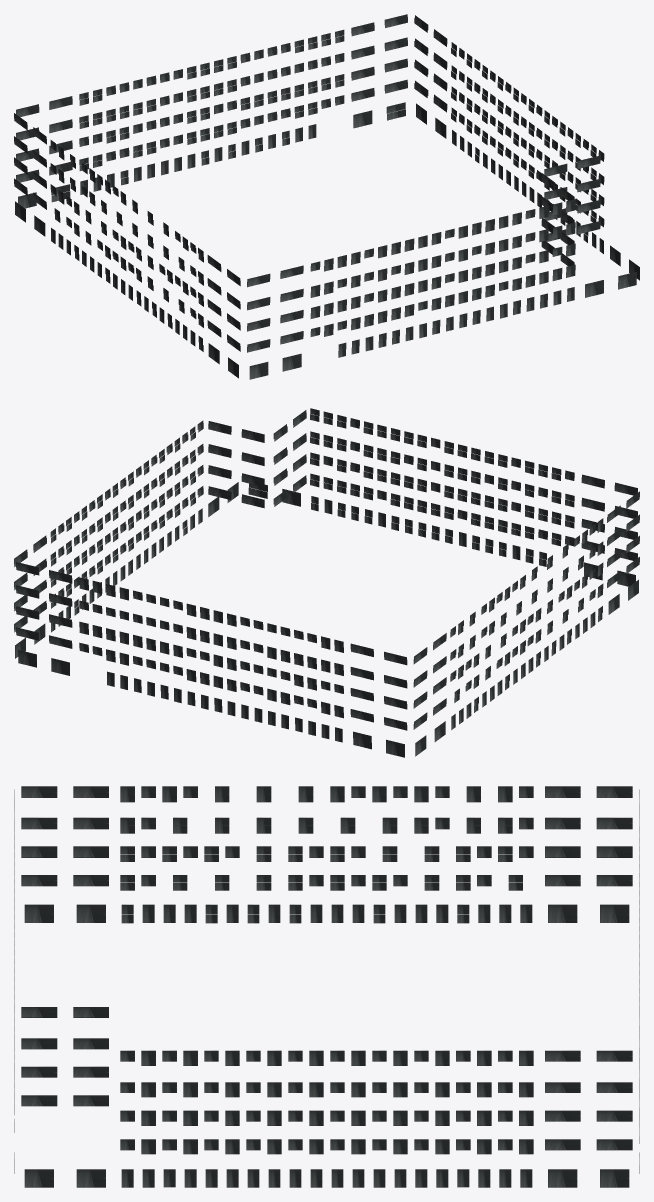
The model's file is TRANS_Building_3stores_School.obj.
The picture shows the model from 3 angles, top to bottom: view 1: azimuth 30°, elevation 25°; view 2: azimuth 150°, elevation 25°; view 3: azimuth 270°, elevation 25°; orthographic projection. The views are drawn at different scales.
Parts seen in each view (by area): view 1: TRANS_Building_3stores_School; view 2: TRANS_Building_3stores_School; view 3: TRANS_Building_3stores_School.
Part boxes in pixels (x1,y1,x2,y2): TRANS_Building_3stores_School: (14, 14, 639, 379); TRANS_Building_3stores_School: (14, 408, 639, 757); TRANS_Building_3stores_School: (14, 786, 639, 1187).
Bounding box in the file's own units: 19.57 × 4.72 × 19.57.
